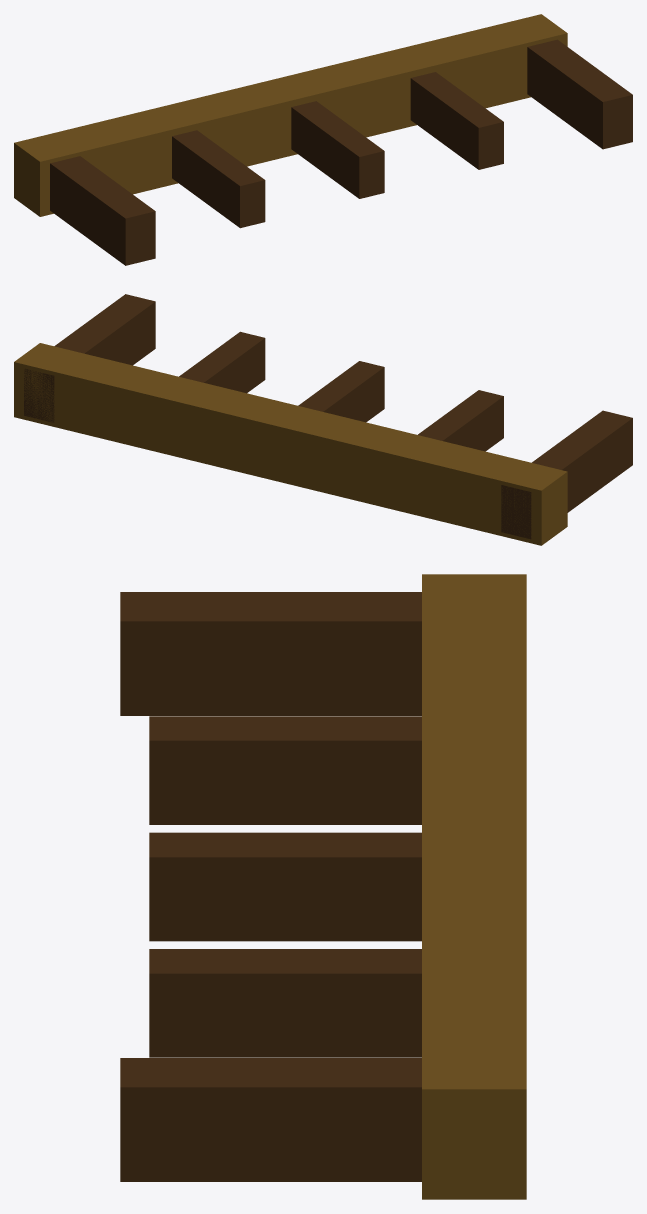
The model's file is SM_LorienCanopyRail.obj.
3 views of the same model, one above another, from view 1: azimuth 30°, elevation 25°; view 2: azimuth 150°, elevation 25°; view 3: azimuth 270°, elevation 25° (orthographic). The views are drawn at different scales.
Visible parts, largest first — view 1: SM_LorienCanopyRail; view 2: SM_LorienCanopyRail; view 3: SM_LorienCanopyRail.
Boxes of the visible parts, bbox=[...] form: SM_LorienCanopyRail: bbox=[14, 14, 632, 265]; SM_LorienCanopyRail: bbox=[14, 294, 632, 545]; SM_LorienCanopyRail: bbox=[120, 574, 526, 1199].
Size of the model in its own units: 420 by 42 by 140.
